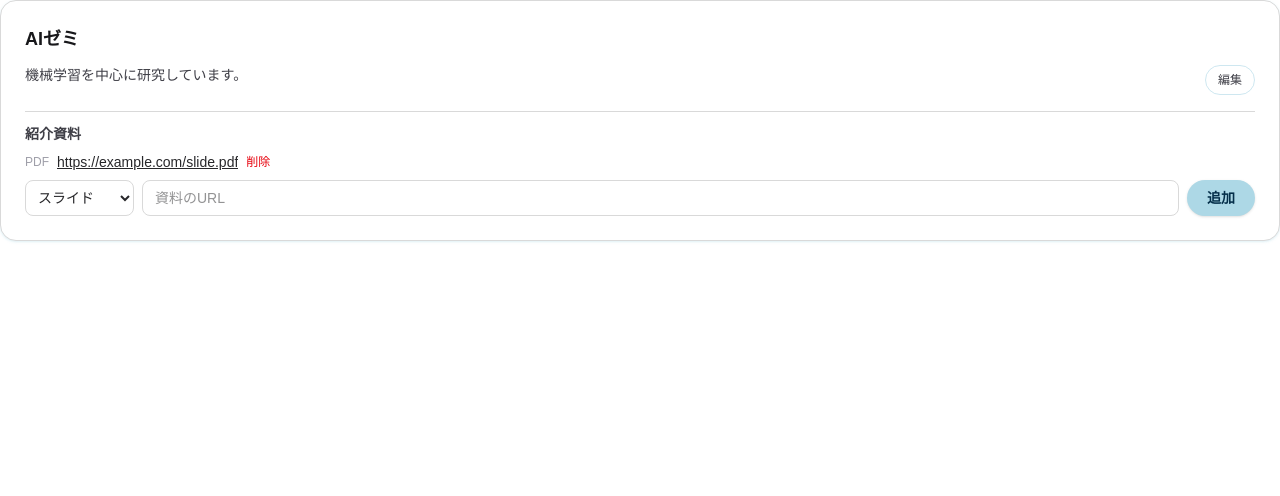
Scenario: TeacherSeminarView › shows an error message when saving fails
Click the button "編集".
click(1230, 80)  # box x1=1205 y1=65 x2=1255 y2=95
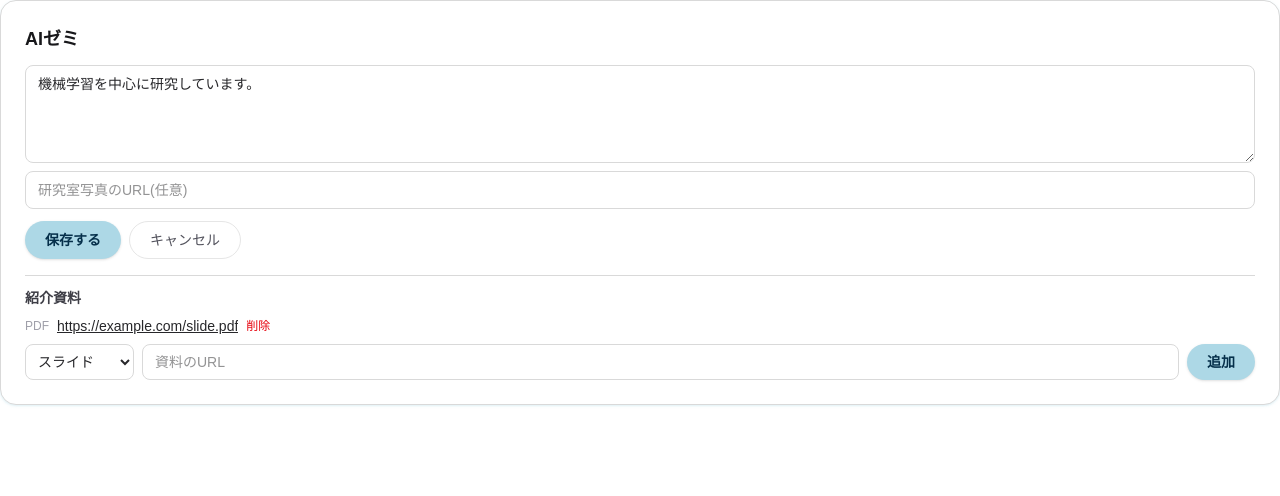
Click the button "保存する".
click(73, 240)  # box x1=25 y1=221 x2=121 y2=259
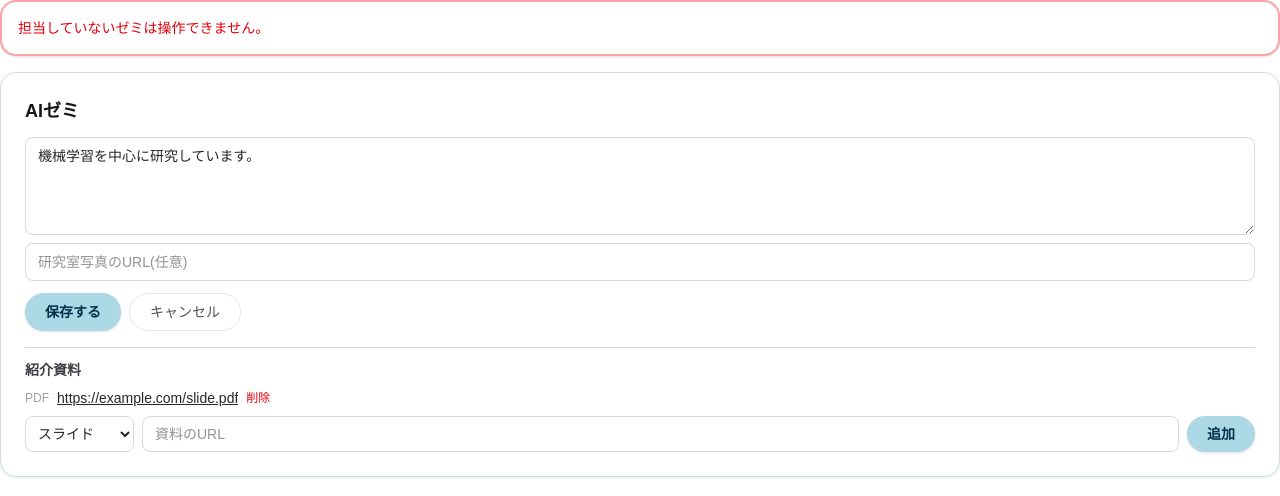
Check: the text "担当していないゼミは操作できません。" is shown, box x1=0 y1=0 x2=1279 y2=56
